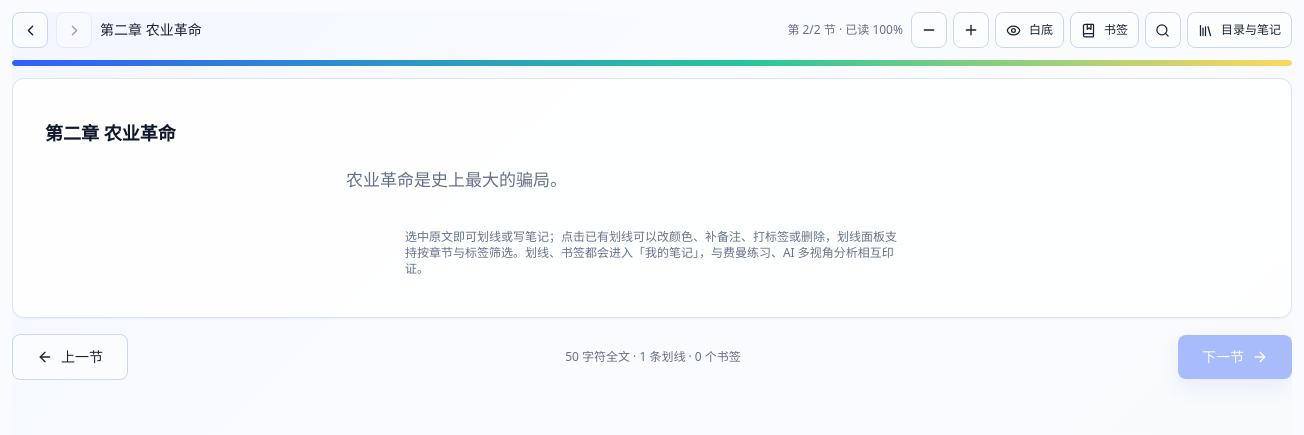
Test: BookReader bookmarks › adds a bookmark for the open section with its position and snippet
Click the button with aria-label "在本节添加书签". click: (1104, 30)
box: [1070,12,1139,48]
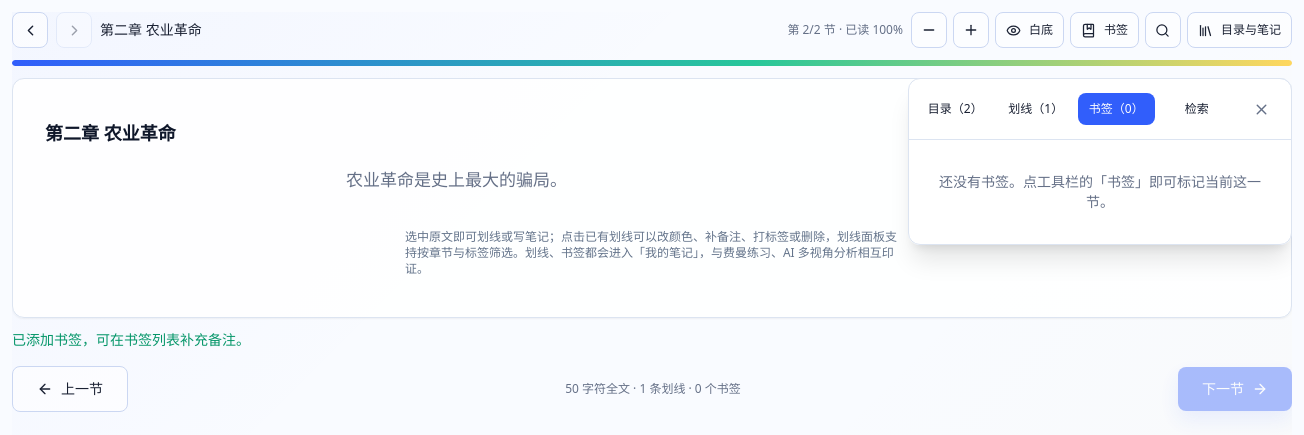
expect the text "还没有书签。点工具栏的「书签」即可标记当前这一节。" is shown: met, box [939,172,1261,211]
